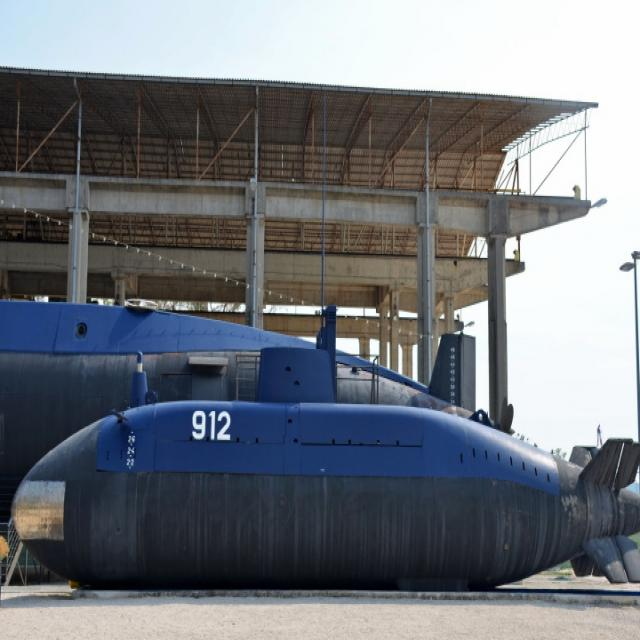submarine: (21, 401, 640, 595), (1, 299, 493, 513)
